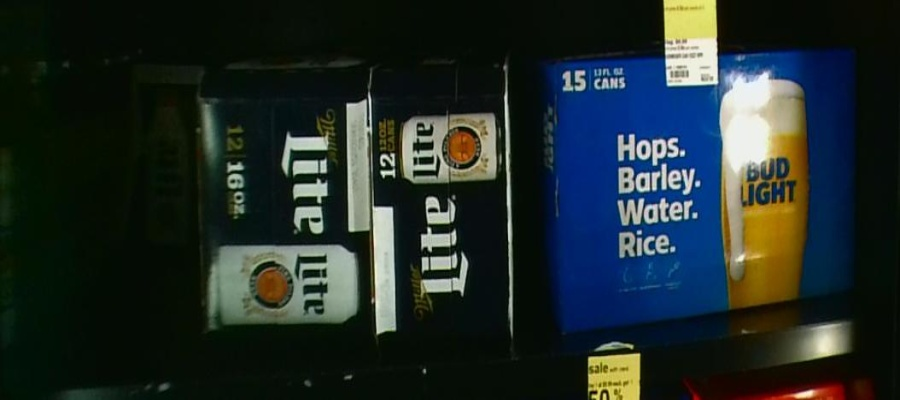bottle: (535, 53, 856, 315), (201, 58, 371, 344), (371, 60, 513, 345), (126, 60, 196, 257)
